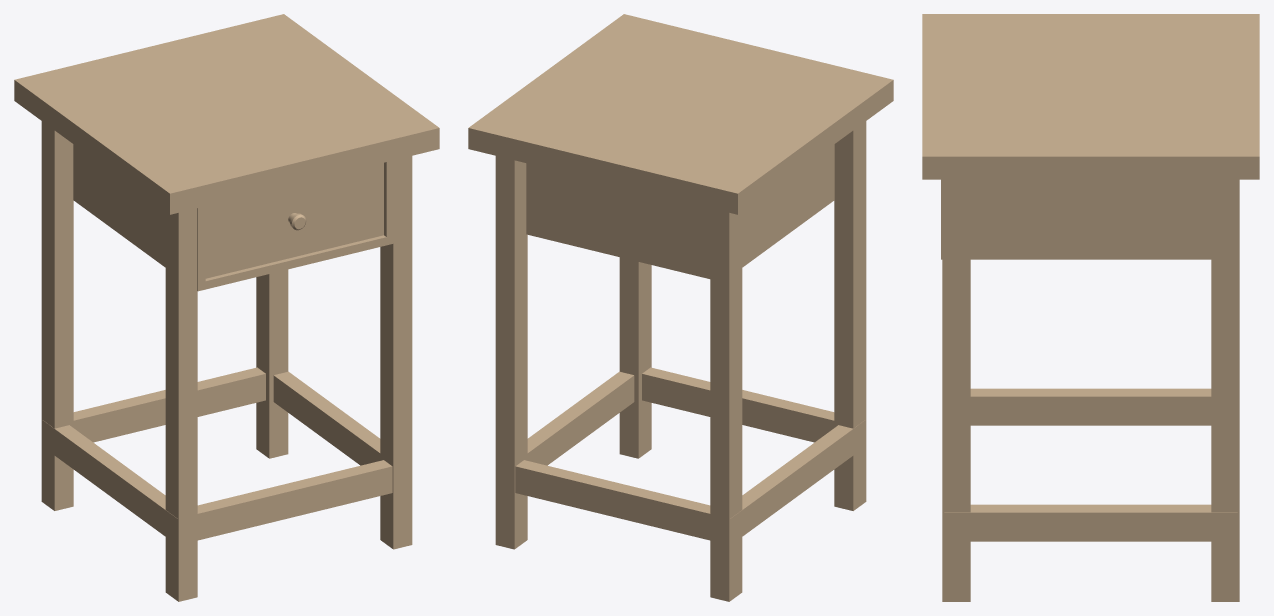
File: SM_bed_table.glb
3 views of the same model, side by side, from view 1: azimuth 30°, elevation 25°; view 2: azimuth 150°, elevation 25°; view 3: azimuth 270°, elevation 25° (orthographic). The views are drawn at different scales.
Parts seen in each view (by area): view 1: SM_bed_table; view 2: SM_bed_table; view 3: SM_bed_table.
Boxes of the visible parts, left/top/right/bottom form: SM_bed_table: left=14, top=14, right=439, bottom=601; SM_bed_table: left=468, top=14, right=893, bottom=601; SM_bed_table: left=922, top=14, right=1259, bottom=601.
Size of the model in its own units: 0.507 by 0.7538 by 0.507.
